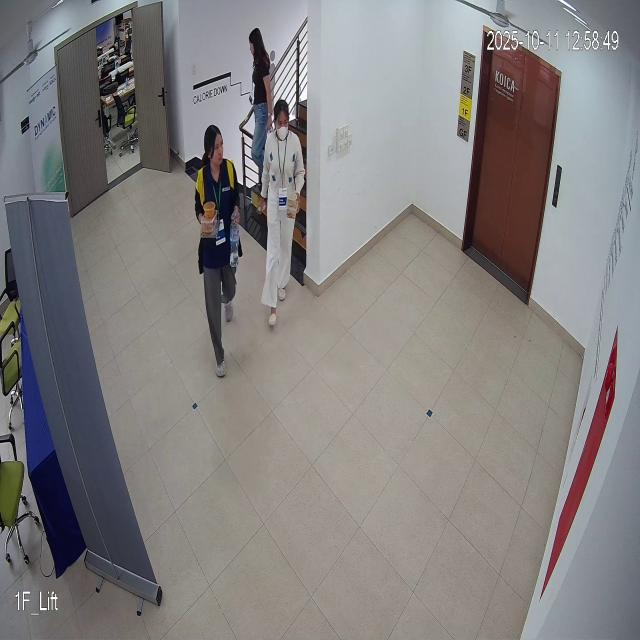face: (198, 115, 227, 181)
